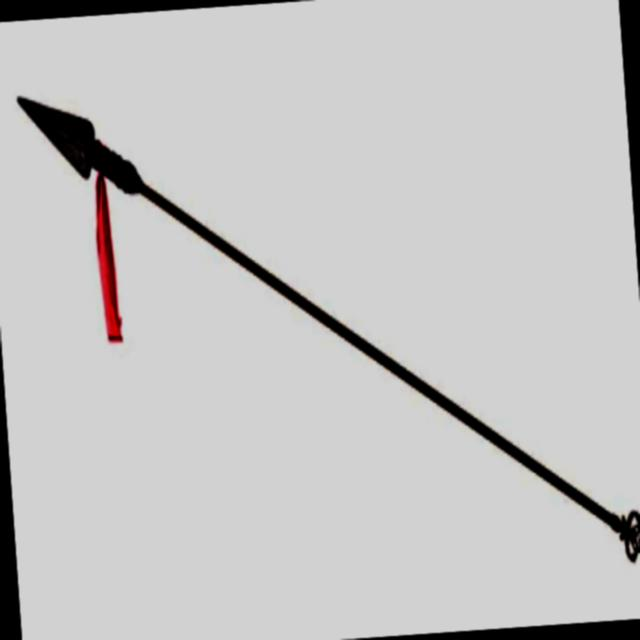spear: (4, 33, 640, 622)
